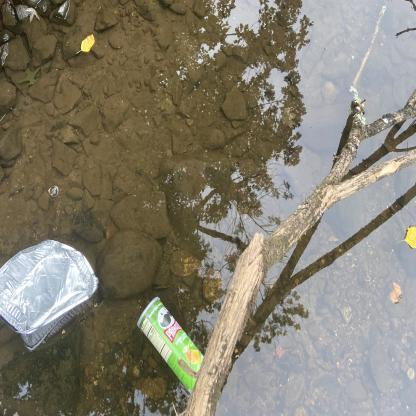trash: (0, 233, 105, 357), (133, 292, 211, 401)
